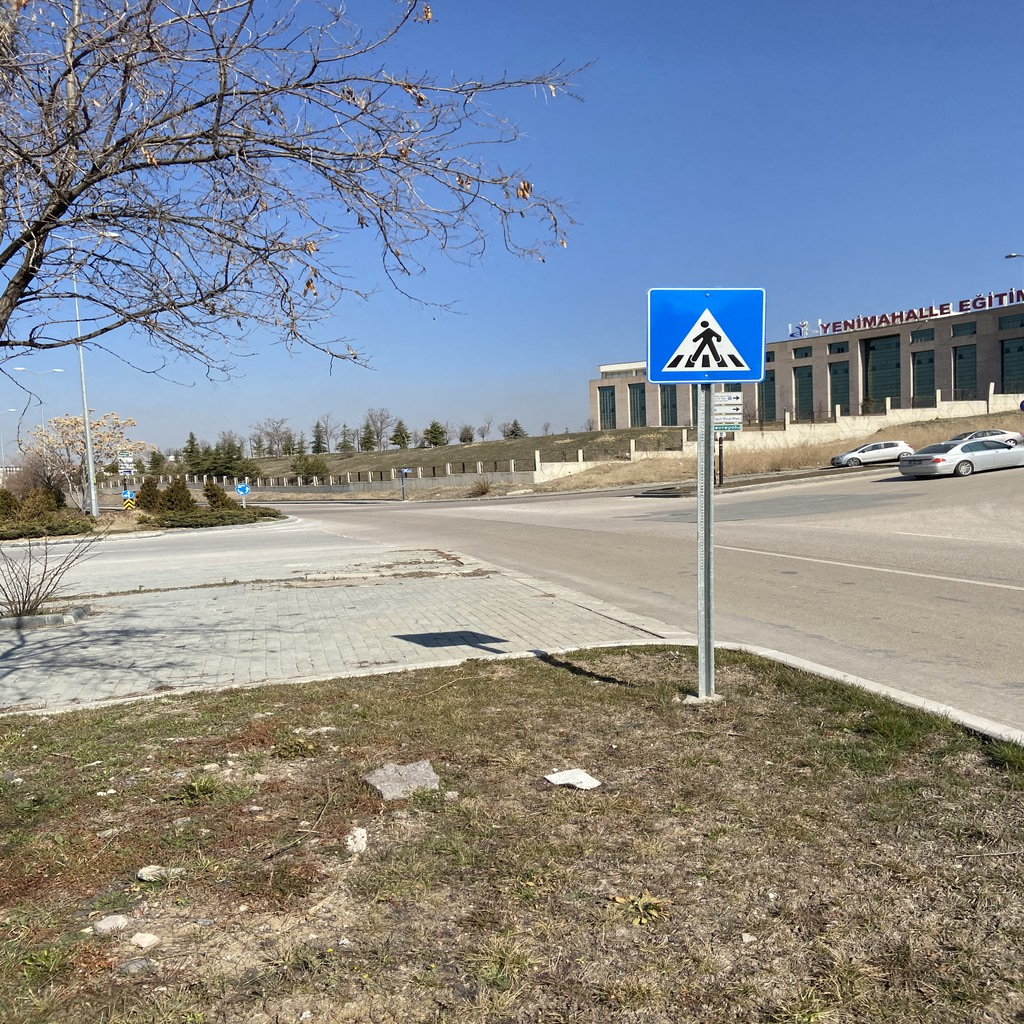Yaya Gecidi: (655, 288, 765, 378)
